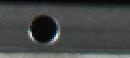holes: (27, 12, 60, 47)
